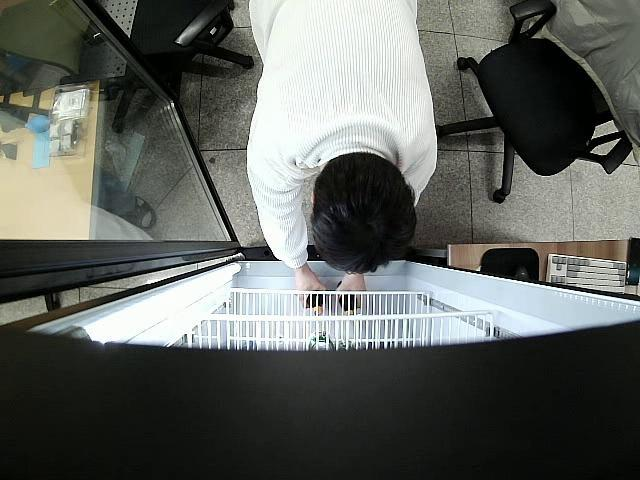17_vita500: (335, 282, 358, 316), (308, 290, 326, 316)
